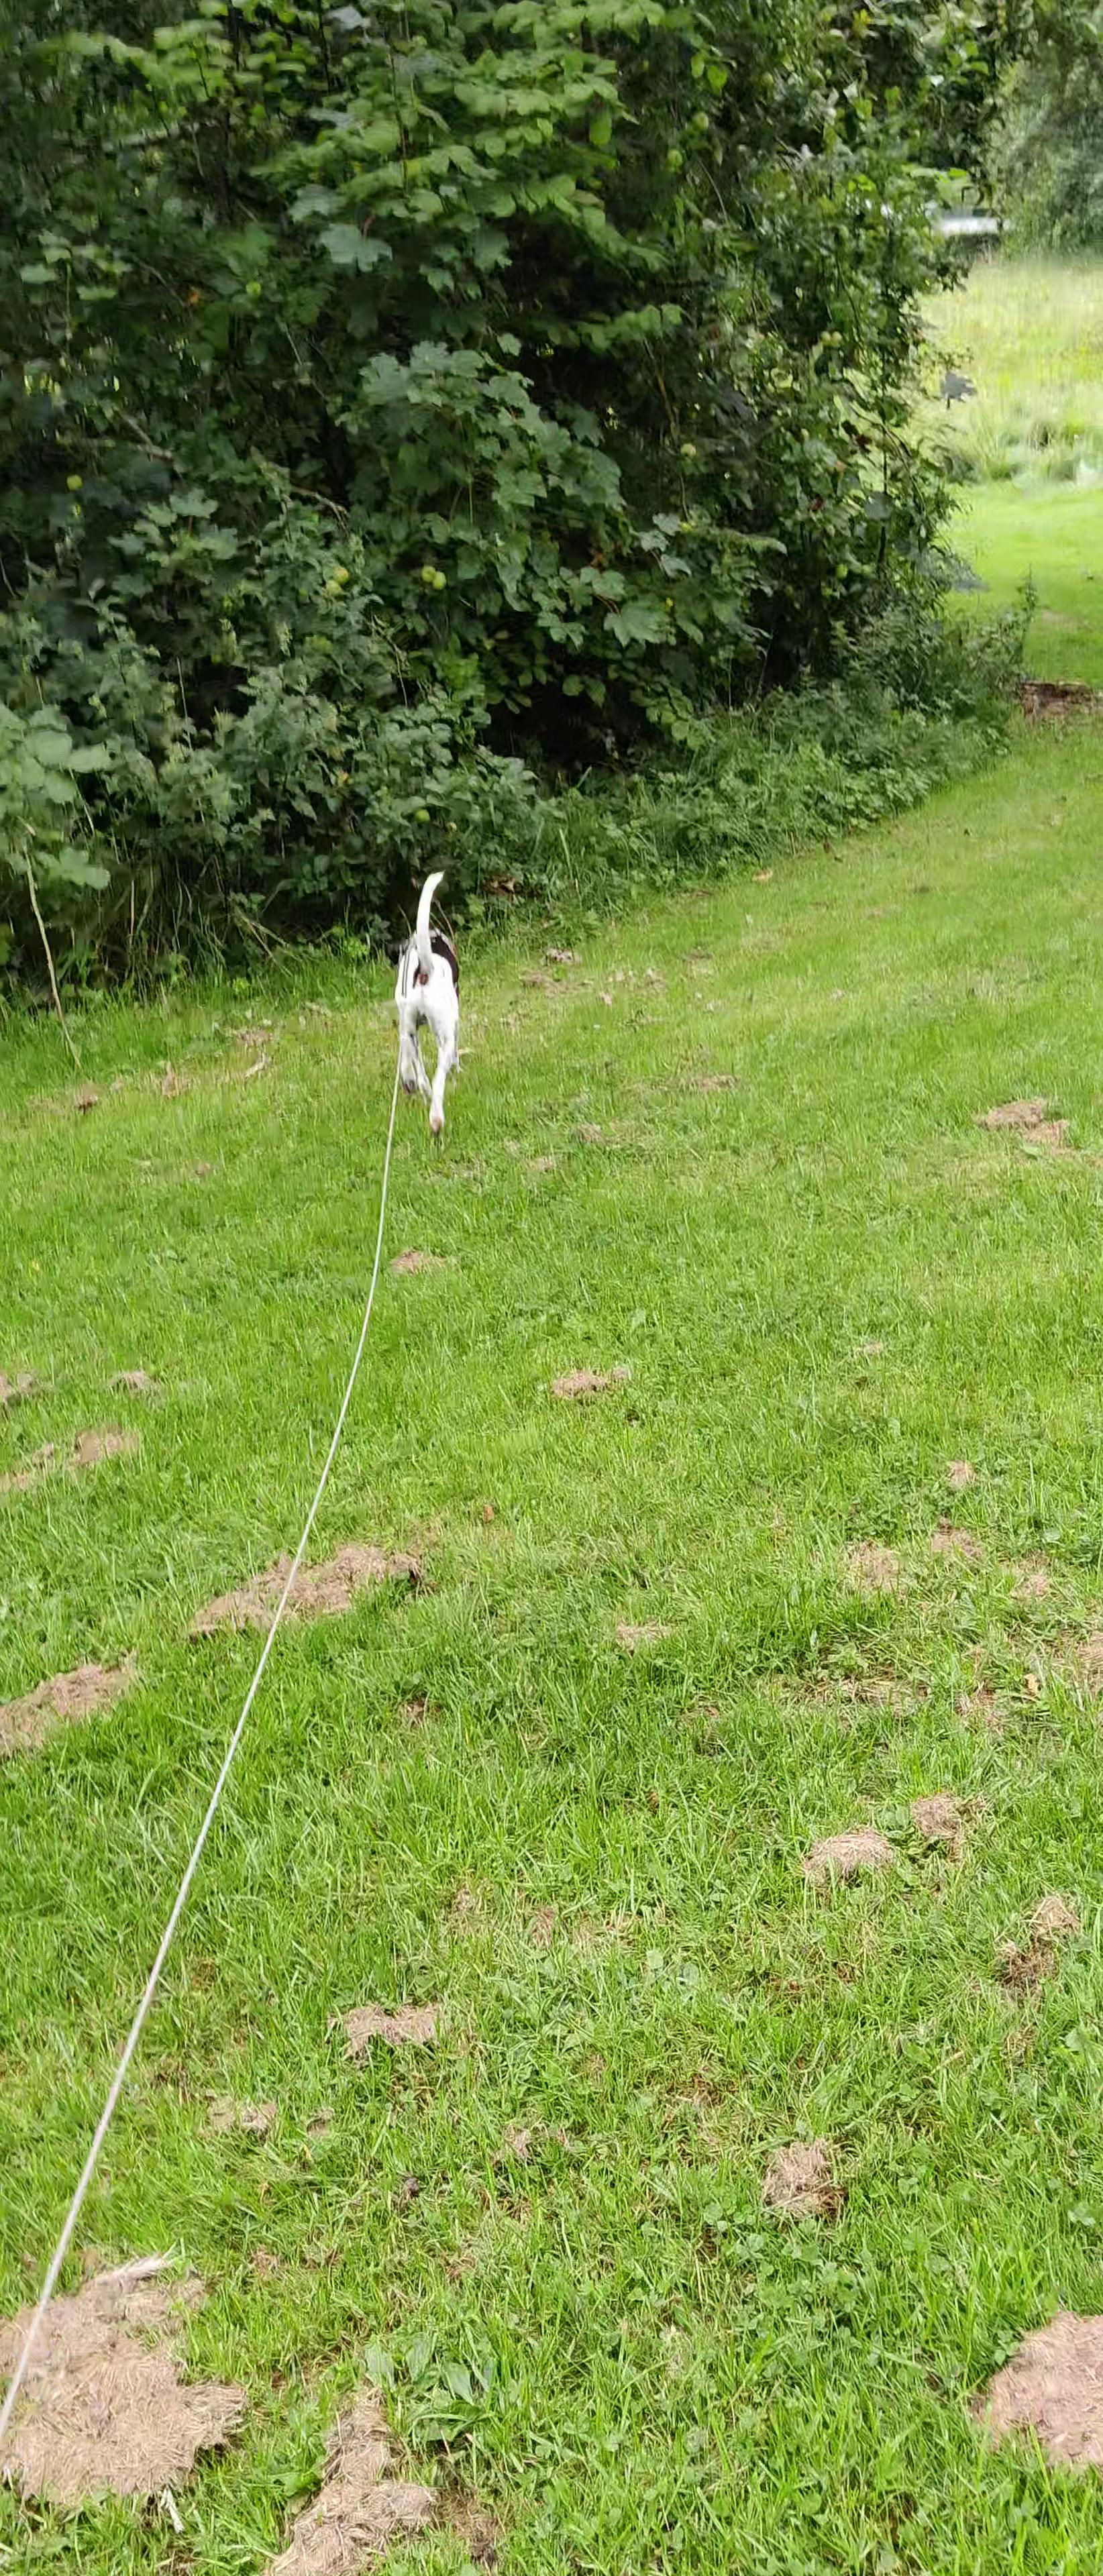Dog: (381, 861, 470, 1142)
